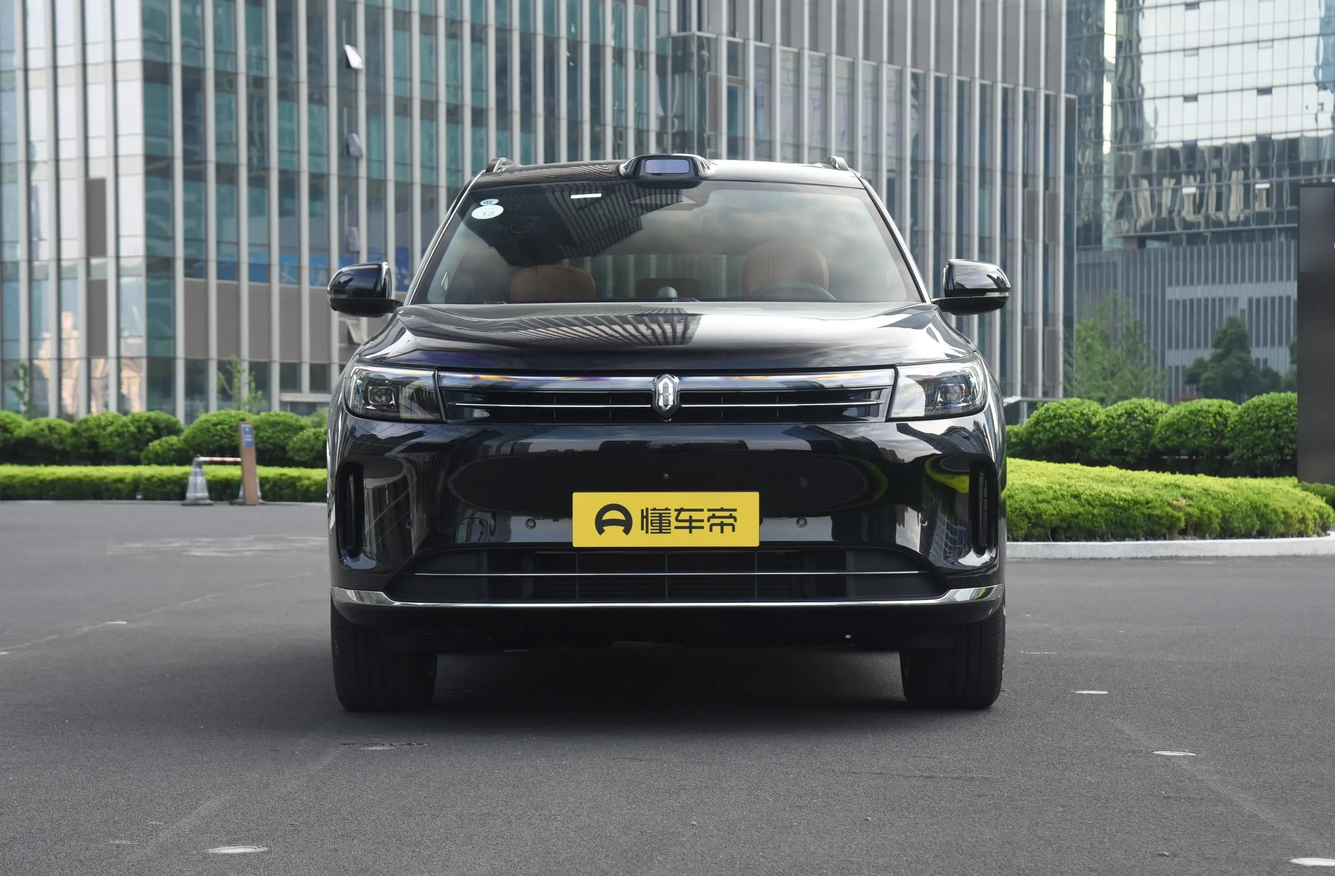AITO: (659, 378, 673, 410)
